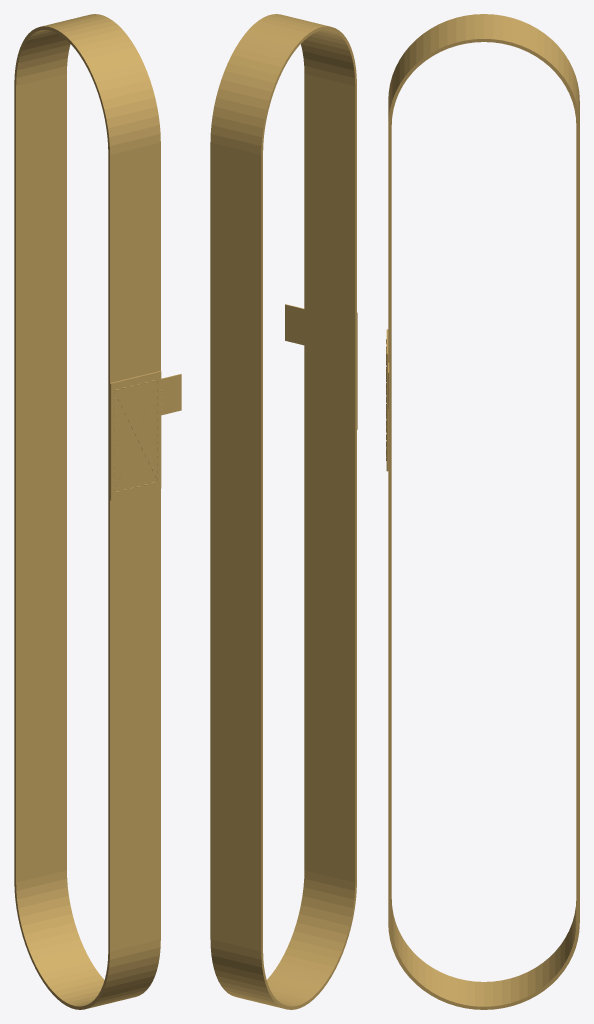
The model's file is endless-webbing-lifting-sling (2).glb.
3 views of the same model, side by side, from view 1: azimuth 30°, elevation 25°; view 2: azimuth 150°, elevation 25°; view 3: azimuth 270°, elevation 25° (orthographic).
Visible parts, largest first — view 1: world; view 2: world; view 3: world.
Part boxes in pixels (left/top/right/bottom): world: left=14, top=14, right=181, bottom=1009; world: left=210, top=14, right=357, bottom=1009; world: left=386, top=14, right=579, bottom=1009.
Bounding box in the file's own units: 0.0705 × 0.9117 × 0.1648.
